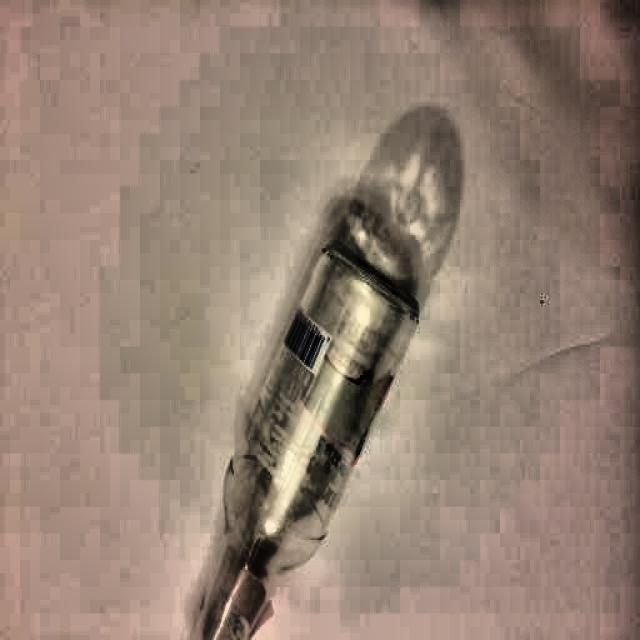glass: (196, 244, 423, 640)
